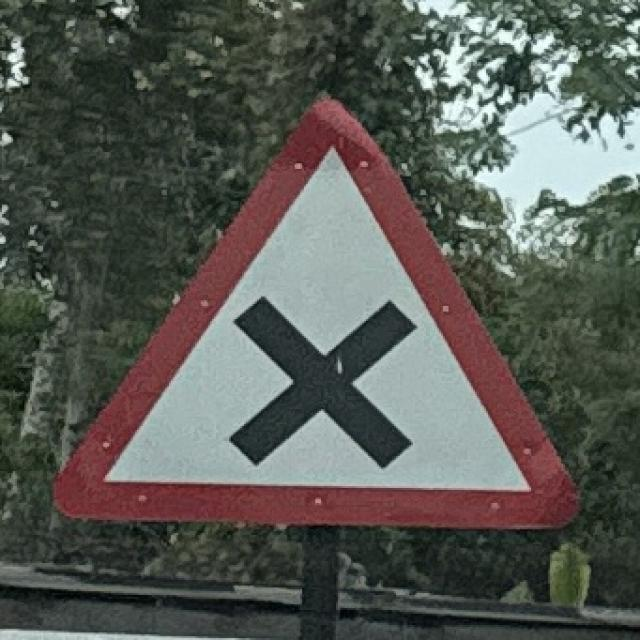CROSS_ROAD: (41, 80, 588, 542)
